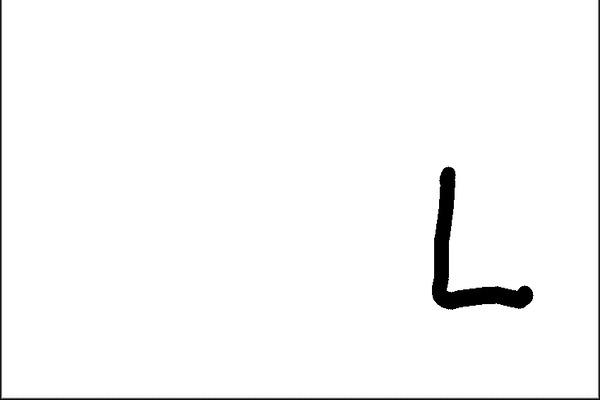L: (423, 157, 539, 320)
